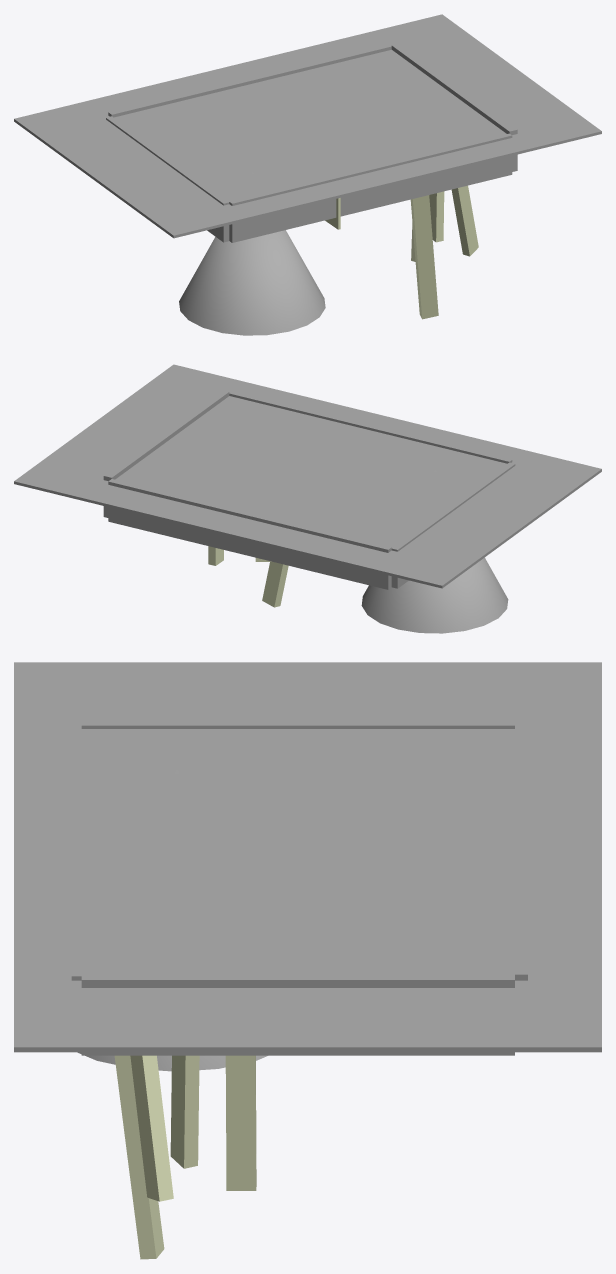
File: LevelEntrance.fbx
3 views of the same model, one above another, from view 1: azimuth 30°, elevation 25°; view 2: azimuth 150°, elevation 25°; view 3: azimuth 270°, elevation 25° (orthographic). The views are drawn at different scales.
Parts seen in each view (by area): view 1: pCube23; view 2: pCube23; view 3: pCube23.
Boxes of the visible parts, bbox=[...] form: pCube23: bbox=[14, 14, 601, 335]; pCube23: bbox=[14, 364, 601, 633]; pCube23: bbox=[14, 662, 601, 1259].
Size of the model in its own units: 164 by 67.37 by 106.
